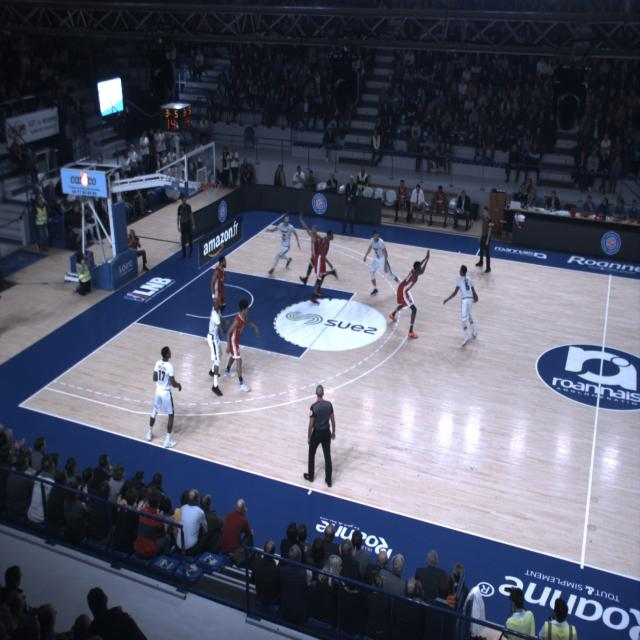bench player: (432, 184, 450, 230), (394, 176, 408, 224)
hoop: (202, 182, 220, 202)
on court player: (387, 248, 433, 338), (145, 337, 179, 446), (222, 302, 258, 391), (263, 208, 301, 274), (357, 229, 391, 301), (454, 260, 481, 350), (204, 296, 226, 396), (309, 228, 339, 301), (209, 250, 227, 311)
photographer: (128, 219, 149, 273)
referee: (302, 385, 338, 484), (476, 206, 498, 272), (173, 193, 195, 258)
staff: (408, 179, 430, 222), (454, 188, 473, 228), (344, 176, 356, 226)
worker: (542, 594, 578, 640), (505, 588, 533, 640), (370, 124, 382, 168), (358, 167, 368, 192)
